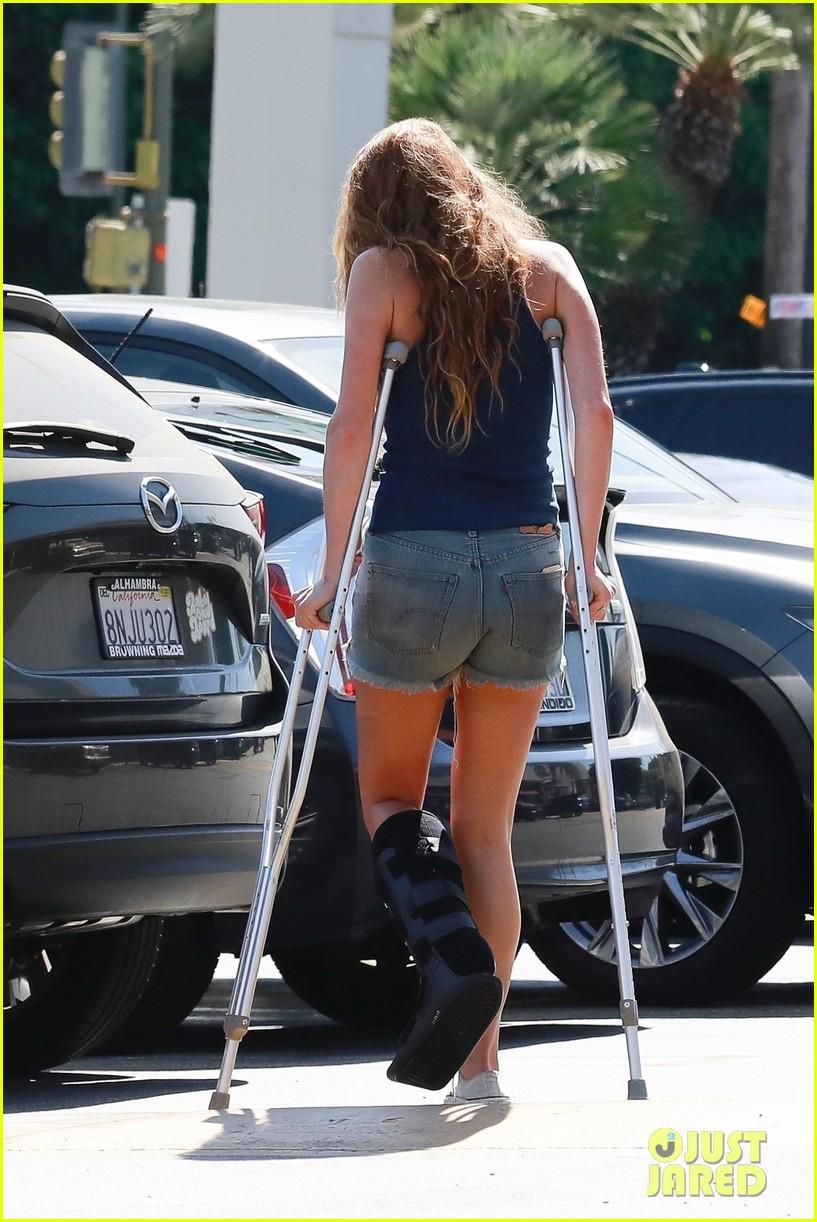crutches: (206, 117, 649, 1111)
